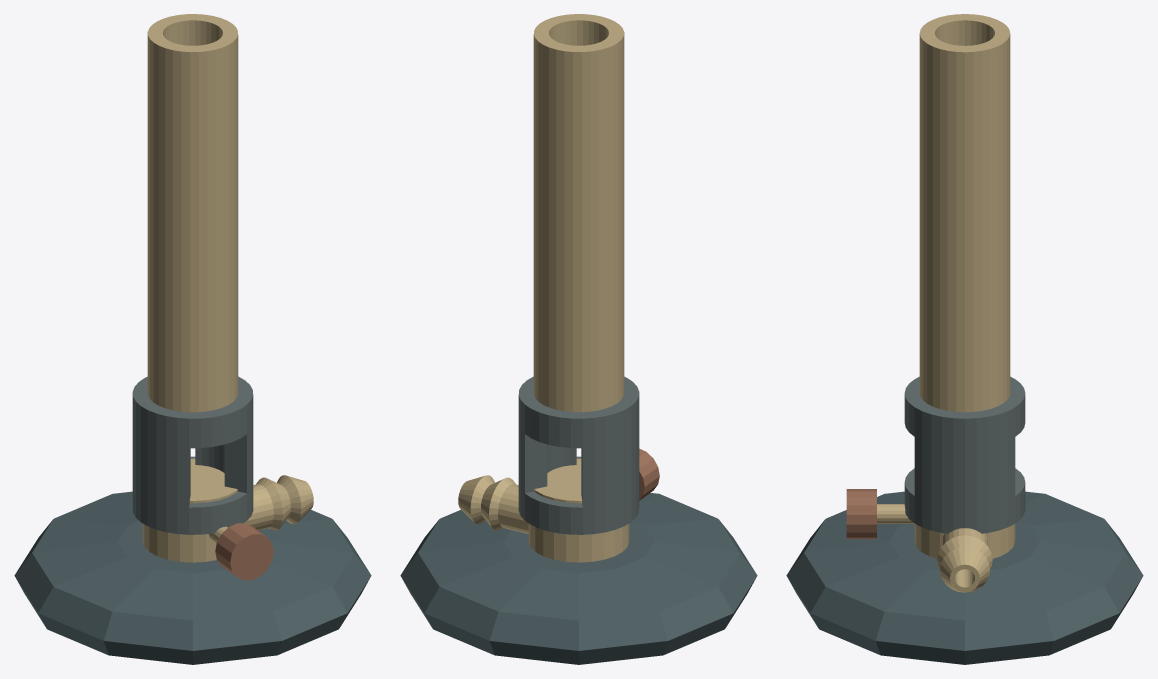
3 renders of one model, left to right at view 1: azimuth 30°, elevation 25°; view 2: azimuth 150°, elevation 25°; view 3: azimuth 270°, elevation 25°, orthographic.
Visible parts, largest first — view 1: WholeBroadLowBase, WholeTallOpenWallTube, WholeOpposedWindowCollar, WholeShortLowerBody, WholeSideRingConnector, WholePlainControlKnob; view 2: WholeBroadLowBase, WholeTallOpenWallTube, WholeOpposedWindowCollar, WholeShortLowerBody, WholeSideRingConnector, WholePlainControlKnob; view 3: WholeBroadLowBase, WholeTallOpenWallTube, WholeOpposedWindowCollar, WholeSideRingConnector, WholePlainControlKnob, WholeShortLowerBody, WholeShortControlStem.
Boxes of the visible parts, x1,y1,x2,y2 form: WholeBroadLowBase: (14,491,371,664); WholeTallOpenWallTube: (147,14,238,412); WholeOpposedWindowCollar: (132,376,253,534); WholeShortLowerBody: (142,458,237,562); WholeSideRingConnector: (244,475,313,530); WholePlainControlKnob: (215,523,273,580); WholeBroadLowBase: (400,493,757,664); WholeTallOpenWallTube: (533,14,624,412); WholeOpposedWindowCollar: (518,376,639,534); WholeShortLowerBody: (528,458,629,562); WholeSideRingConnector: (458,475,528,533); WholePlainControlKnob: (639,448,659,500); WholeBroadLowBase: (786,491,1143,664); WholeTallOpenWallTube: (919,14,1010,412); WholeOpposedWindowCollar: (904,376,1025,533); WholeSideRingConnector: (937,528,992,592); WholePlainControlKnob: (846,489,876,538); WholeShortLowerBody: (914,524,1015,558); WholeShortControlStem: (877,504,914,523).
Size of the model in its own units: 0.142 by 0.246 by 0.142.
